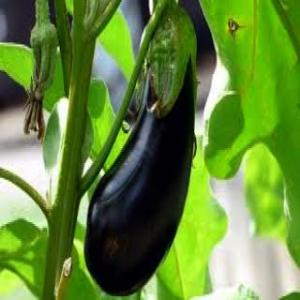eggplant: (84, 6, 194, 292)
